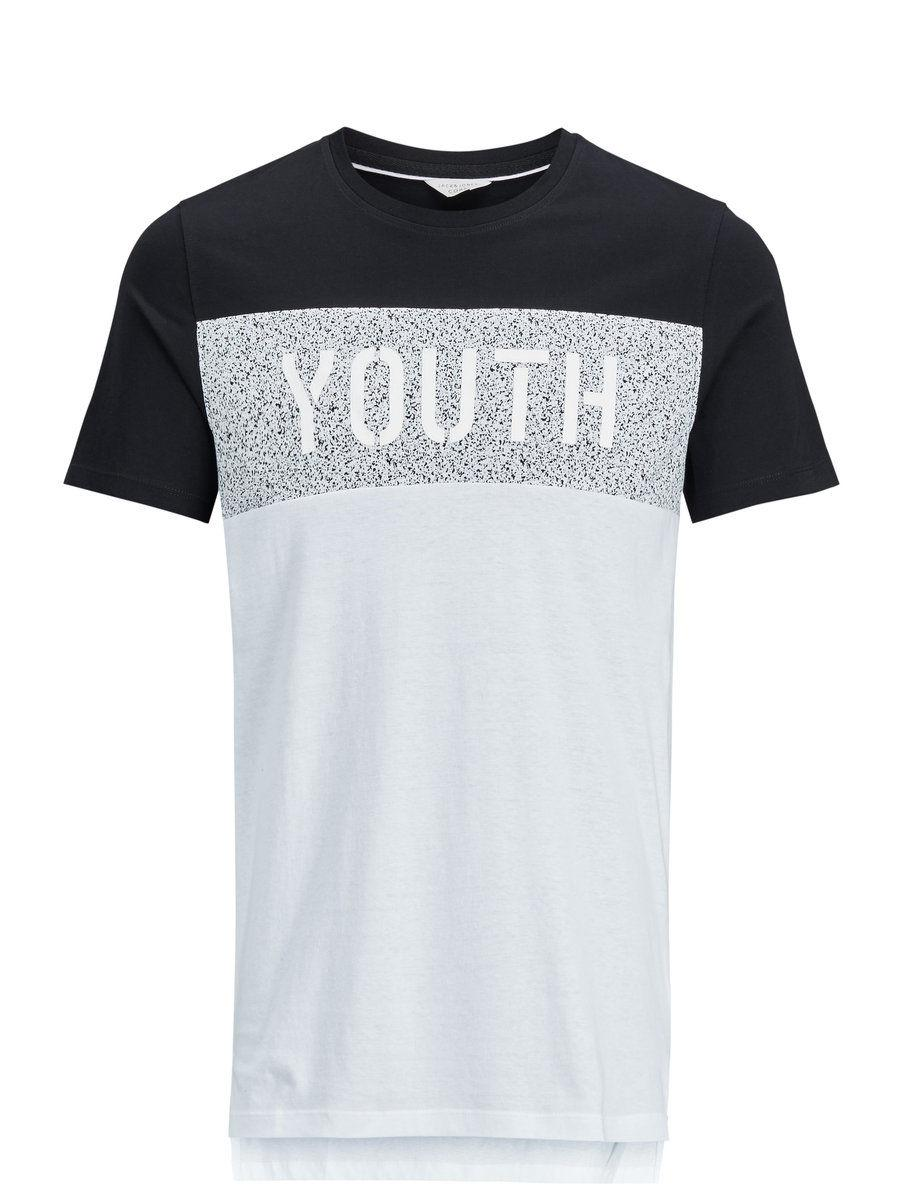teeshirt: (40, 118, 840, 1199)
